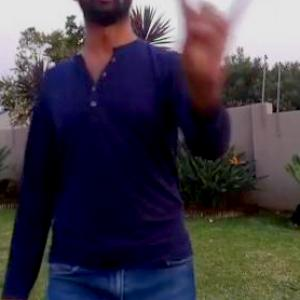takeoff-hand: (165, 0, 255, 95)
